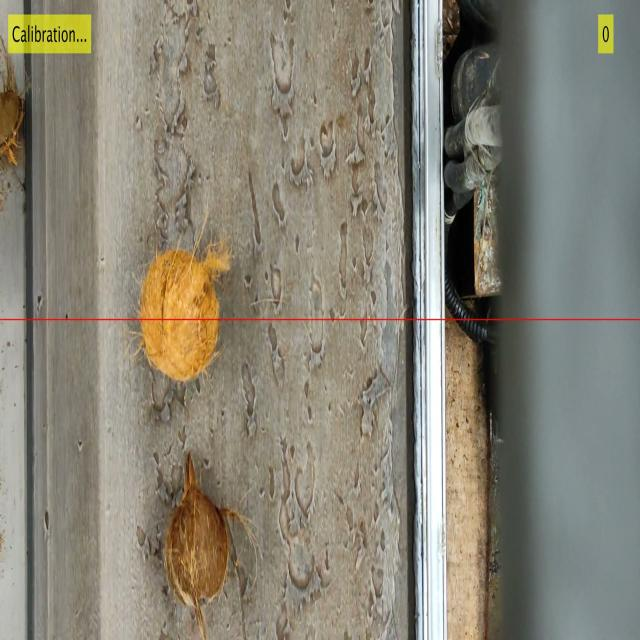Coconut-Conveyor-Belt: (140, 242, 224, 386), (161, 486, 236, 640)
